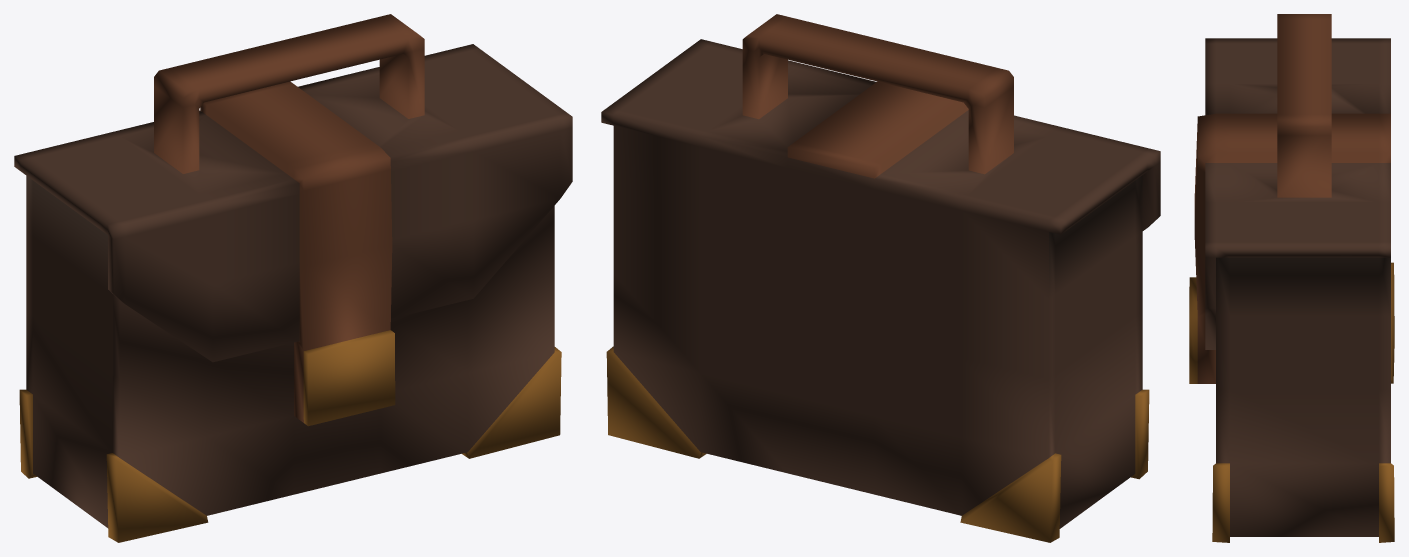
Rendered from case.glb.
The picture shows the model from 3 angles, left to right: view 1: azimuth 30°, elevation 25°; view 2: azimuth 150°, elevation 25°; view 3: azimuth 270°, elevation 25°; orthographic projection. The views are drawn at different scales.
Parts seen in each view (by area): view 1: Cube; view 2: Cube; view 3: Cube.
Boxes of the visible parts, <box> form: Cube: <box>14,14,572,542</box>; Cube: <box>601,14,1160,542</box>; Cube: <box>1189,14,1394,542</box>.
Size of the model in its own units: 0.5714 by 0.4793 by 0.237.
